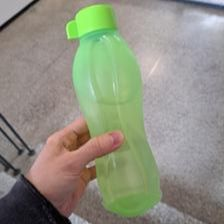bottle: (65, 4, 168, 217)
